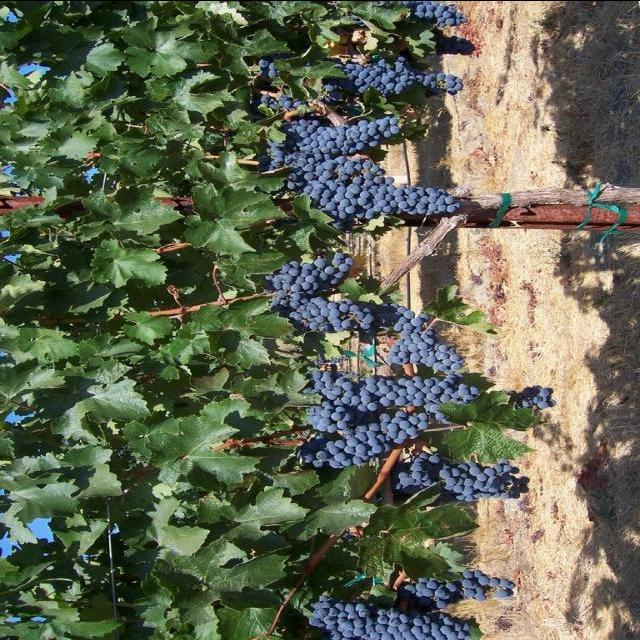Non_Gorille: (2, 0, 636, 635)
